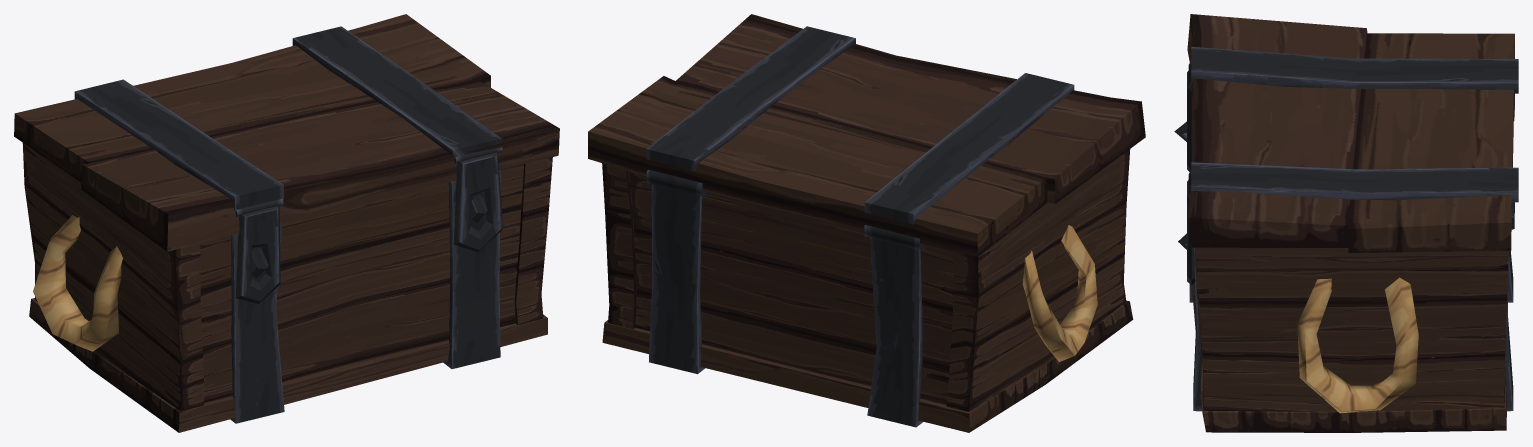
The model's file is SM_PROP_chest_battle_02.fbx.
3 views of the same model, side by side, from view 1: azimuth 30°, elevation 25°; view 2: azimuth 150°, elevation 25°; view 3: azimuth 270°, elevation 25° (orthographic). The views are drawn at different scales.
Parts seen in each view (by area): view 1: SM_PROP_chest_battle_02, SM_PROP_chest_top_battle_02; view 2: SM_PROP_chest_battle_02, SM_PROP_chest_top_battle_02; view 3: SM_PROP_chest_top_battle_02, SM_PROP_chest_battle_02.
Boxes of the visible parts, left/top/right/bottom form: SM_PROP_chest_battle_02: left=22, top=143, right=552, bottom=432; SM_PROP_chest_top_battle_02: left=14, top=14, right=559, bottom=303; SM_PROP_chest_battle_02: left=602, top=149, right=1133, bottom=432; SM_PROP_chest_top_battle_02: left=588, top=14, right=1145, bottom=256; SM_PROP_chest_top_battle_02: left=1187, top=14, right=1518, bottom=285; SM_PROP_chest_battle_02: left=1174, top=93, right=1514, bottom=432.
Size of the model in its own units: 76.45 by 36.25 by 48.91.
